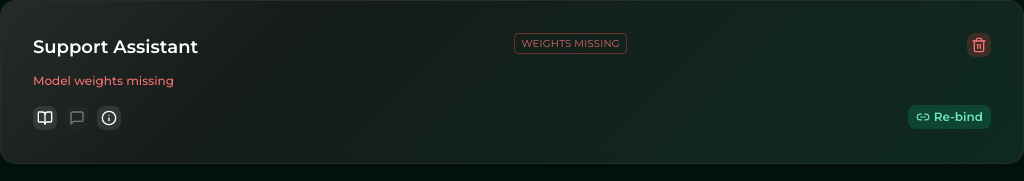
it: ModelCard orphaned assistant (#225/#208) › re-binds through the picker and reports the chosen target
The image size is (1024, 181).
Click the button titled "Re-bind to another installed model" at (949, 117), box [908,105,991,129]
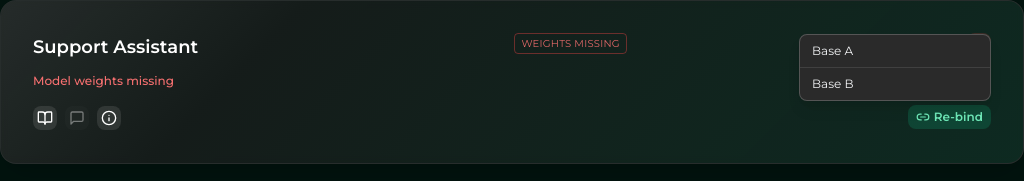
Click the text "Base B" at (833, 84), box [812,76,853,91]
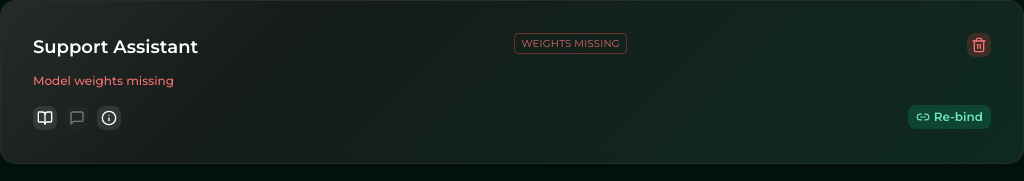
Now the text "Base A" is gone
